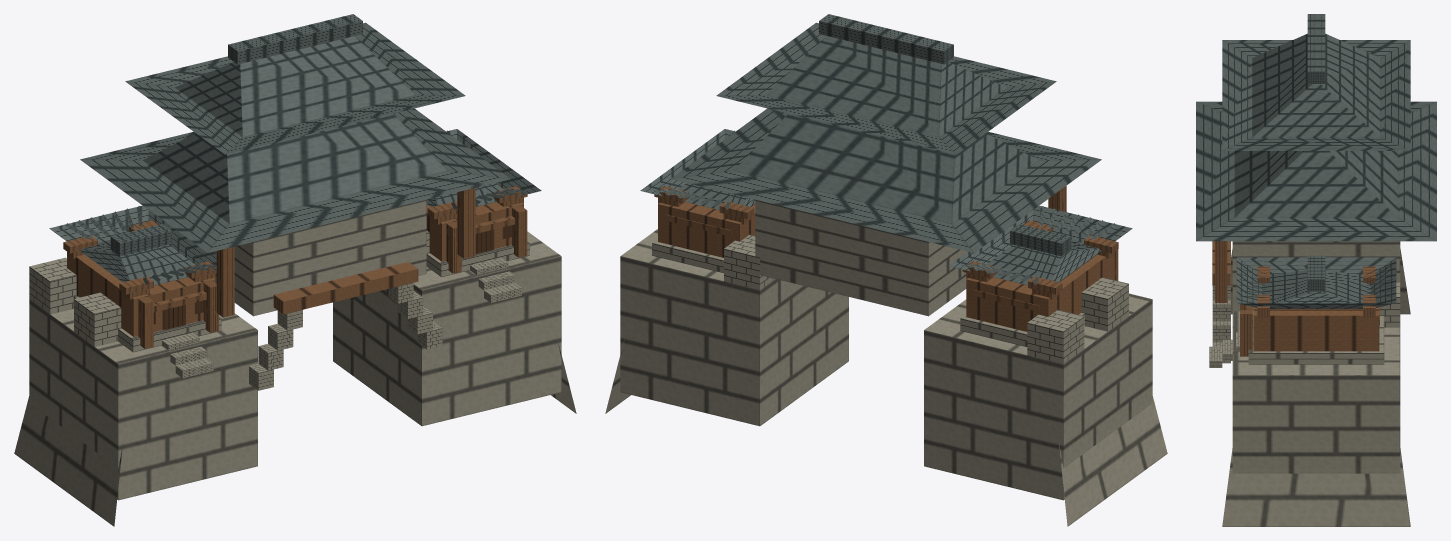
The model's file is gate-lod0.glb.
3 renders of one model, left to right at view 1: azimuth 30°, elevation 25°; view 2: azimuth 150°, elevation 25°; view 3: azimuth 270°, elevation 25°, orthographic. The views are drawn at different scales.
Size of the model in its own units: 0.96 by 0.796 by 0.46.
Materials: 1 (1 with a texture image).
